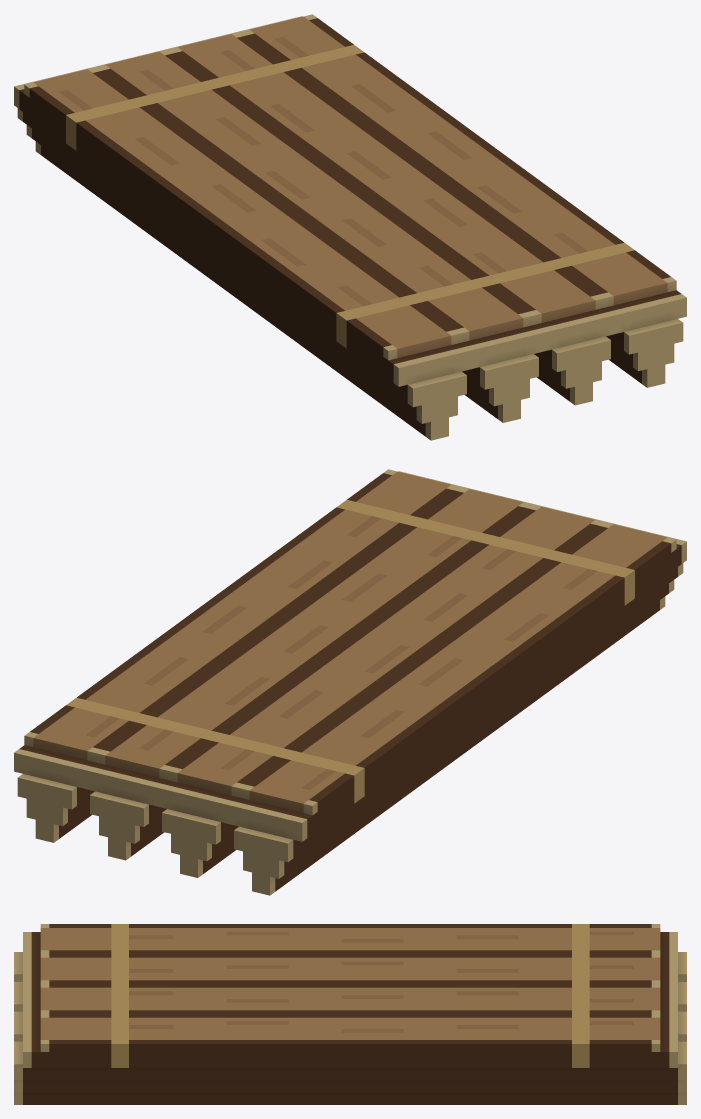
The model's file is log_bridge_3.glb.
3 renders of one model, top to bottom at view 1: azimuth 30°, elevation 25°; view 2: azimuth 150°, elevation 25°; view 3: azimuth 270°, elevation 25°, orthographic. The views are drawn at different scales.
Parts seen in each view (by area): view 1: VoxelVisual; view 2: VoxelVisual; view 3: VoxelVisual.
Part boxes in pixels (x1,y1,x2,y2): VoxelVisual: (14,14,686,440); VoxelVisual: (14,469,686,895); VoxelVisual: (14,924,686,1104).
Size of what is drawn, in the model's own units: 2 by 0.5625 by 4.75.
